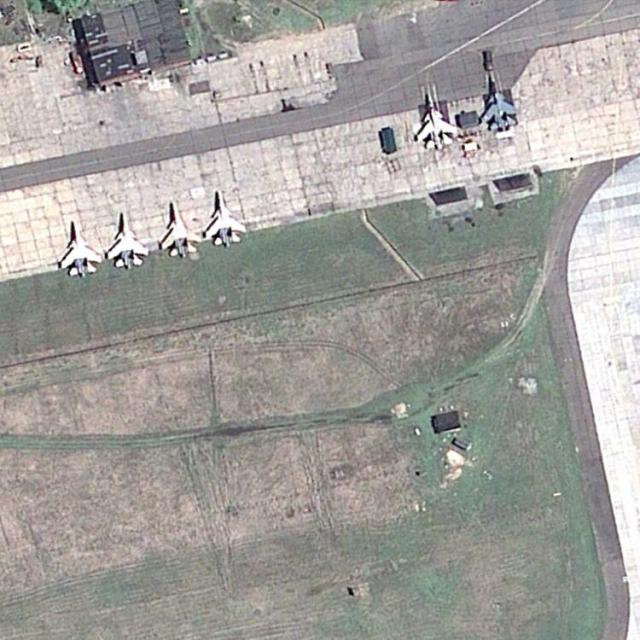fighter jet: (471, 76, 522, 134), (409, 90, 458, 148), (54, 218, 101, 276), (158, 200, 200, 264), (202, 188, 247, 245), (108, 210, 148, 268)
